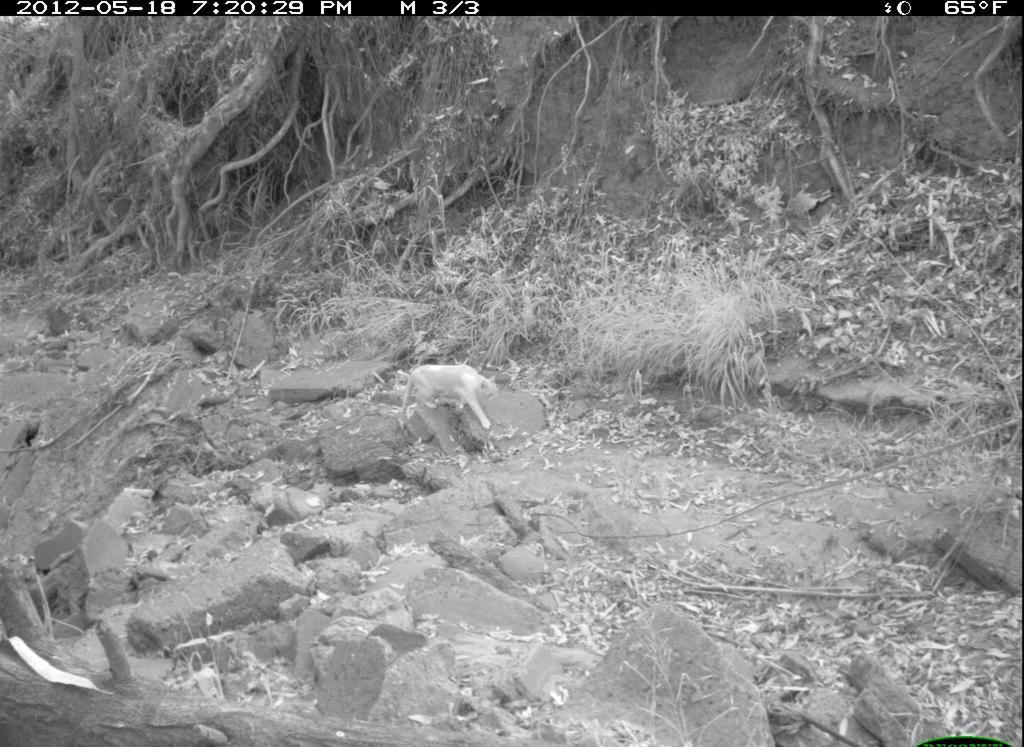cat: (392, 360, 502, 436)
